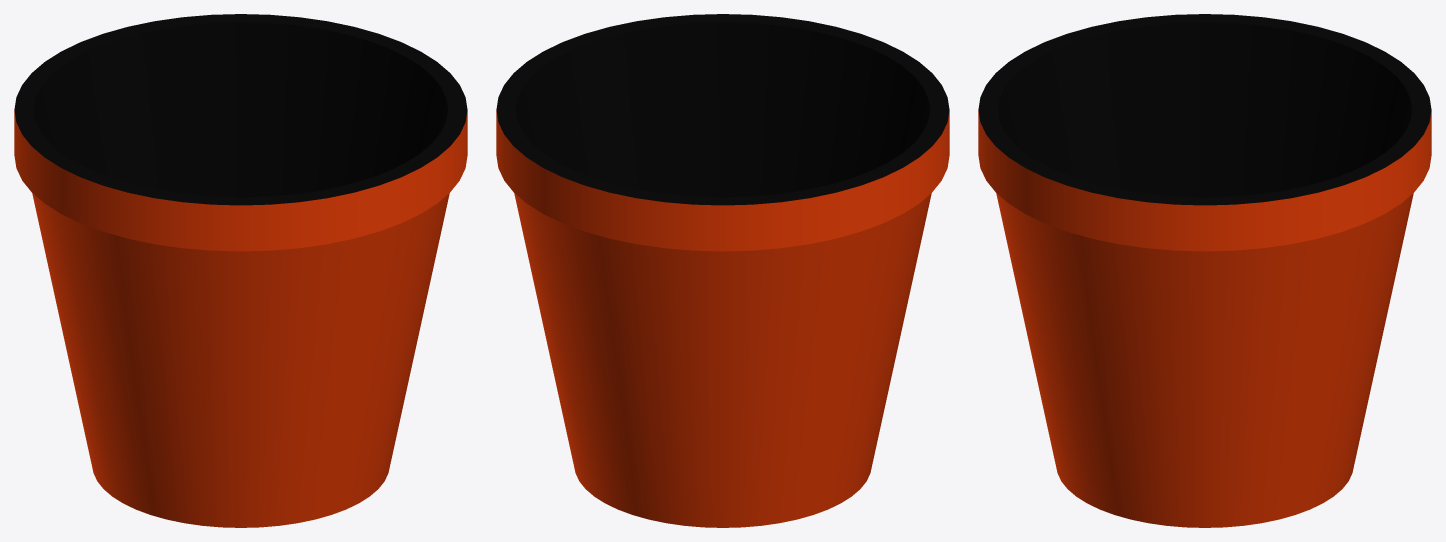
The model's file is pot_02_origin_gt_7.dae.
The picture shows the model from 3 angles, left to right: view 1: azimuth 30°, elevation 25°; view 2: azimuth 150°, elevation 25°; view 3: azimuth 270°, elevation 25°; orthographic projection.
Parts seen in each view (by area): view 1: Pot (×3); view 2: Pot (×3); view 3: Pot (×3).
Boxes of the visible parts, x1,y1,x2,y2 form: Pot (×3): [14, 14, 467, 527]; Pot (×3): [496, 14, 949, 527]; Pot (×3): [978, 14, 1431, 527].
Size of the model in its own units: 3.94 by 3.94 by 3.41.
